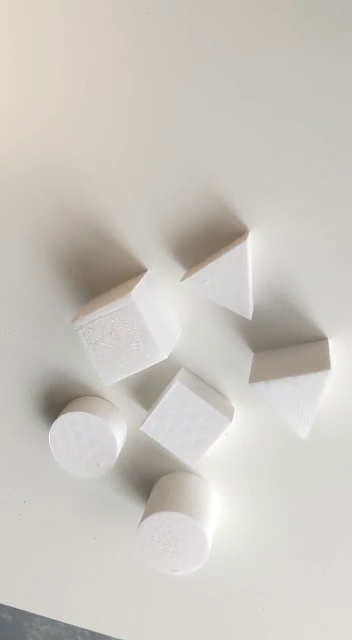Clyinder_short: (44, 394, 129, 480)
Cube: (72, 265, 189, 397)
Cube_short: (134, 363, 238, 481)
Cylinder: (135, 463, 221, 580)
Triangle: (244, 335, 335, 441)
Triangle_short: (178, 231, 261, 319)
